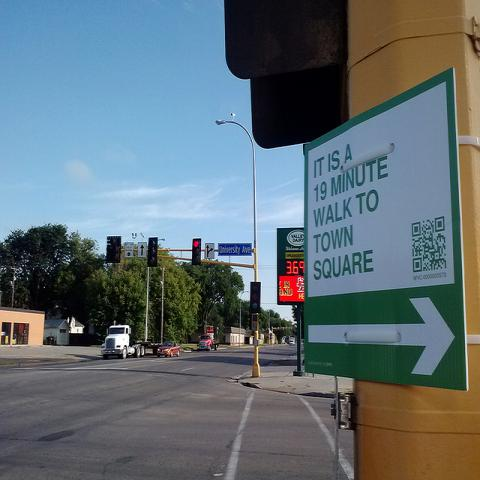car: (156, 340, 180, 357)
truck: (100, 324, 162, 362), (197, 334, 214, 350)
